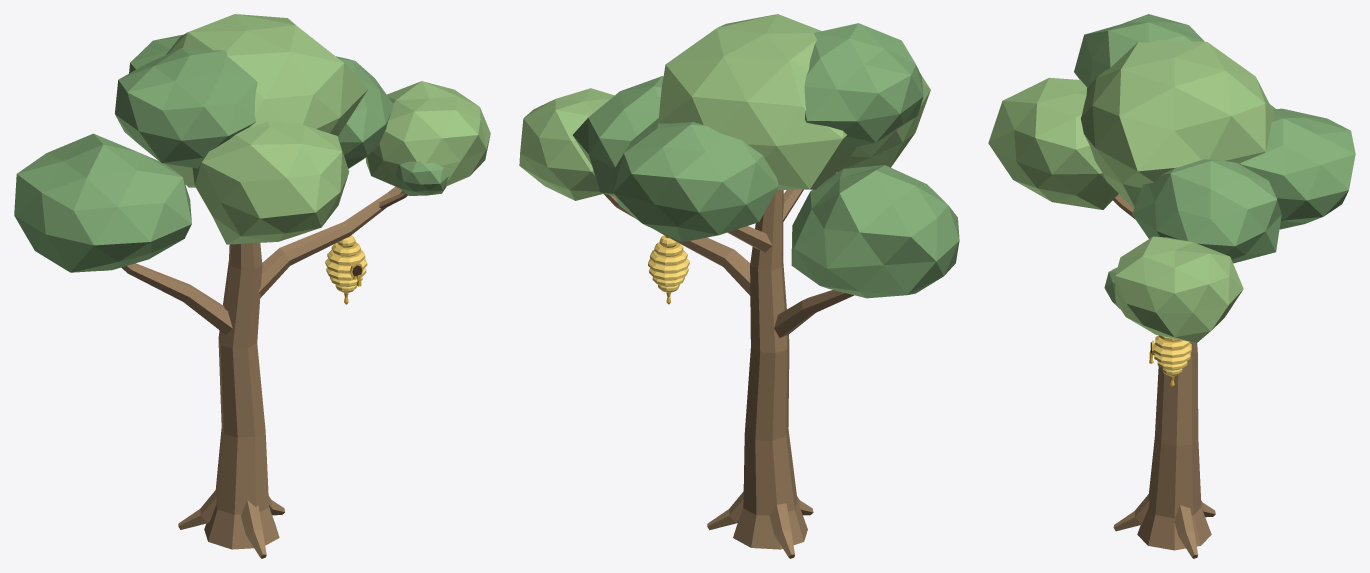
The model's file is WaspNestTree_LowPoly.fbx.
The picture shows the model from 3 angles, left to right: view 1: azimuth 30°, elevation 25°; view 2: azimuth 150°, elevation 25°; view 3: azimuth 270°, elevation 25°; orthographic projection. The views are drawn at different scales.
Visible parts, largest first — view 1: Tree, WaspNest; view 2: Tree, WaspNest; view 3: Tree, WaspNest.
Part boxes in pixels (x1=…): Tree: x1=14, y1=14, x2=490, y2=558; WaspNest: x1=325, y1=235, x2=367, y2=304; Tree: x1=519, y1=14, x2=959, y2=558; WaspNest: x1=648, y1=235, x2=689, y2=304; Tree: x1=988, y1=14, x2=1355, y2=558; WaspNest: x1=1149, y1=335, x2=1191, y2=387.
Bounding box in the file's own units: 4.65 × 5.14 × 3.55.
